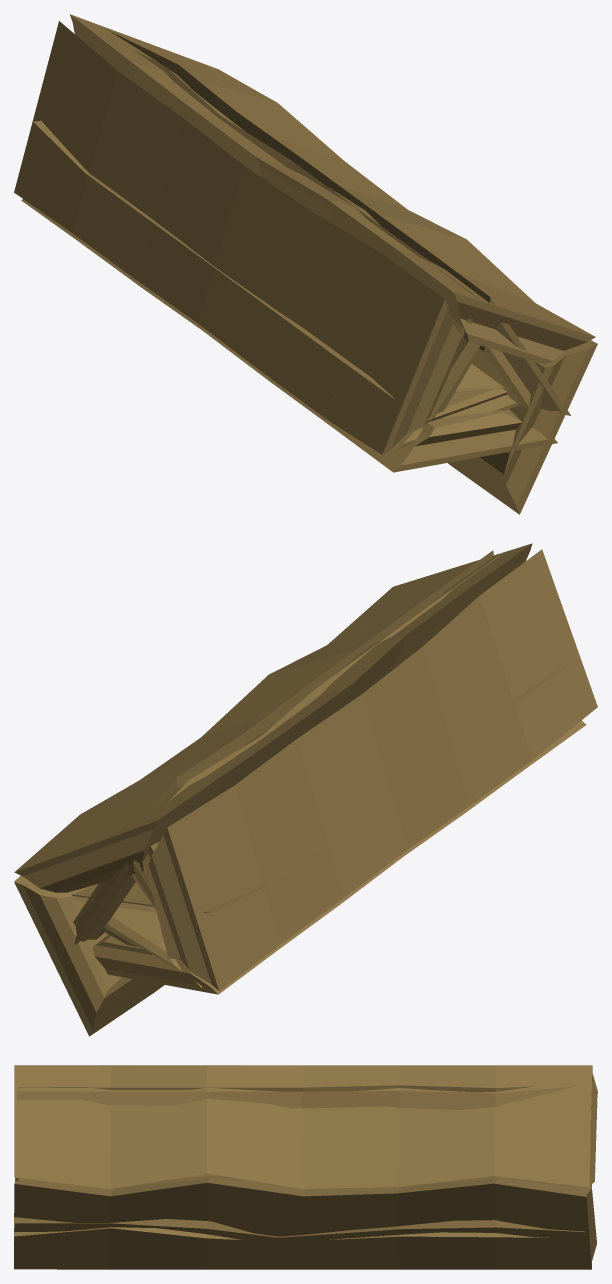
Rendered from mokkan_abrir.fbx.
3 renders of one model, top to bottom at view 1: azimuth 30°, elevation 25°; view 2: azimuth 150°, elevation 25°; view 3: azimuth 270°, elevation 25°, orthographic. The views are drawn at different scales.
Visible parts, largest first — view 1: Plane; view 2: Plane; view 3: Plane.
Boxes of the visible parts, x1,y1,x2,y2 form: Plane: (14, 14, 597, 514); Plane: (14, 543, 597, 1036); Plane: (14, 1065, 597, 1269).
Size of the model in its own units: 65.17 by 68.65 by 202.
